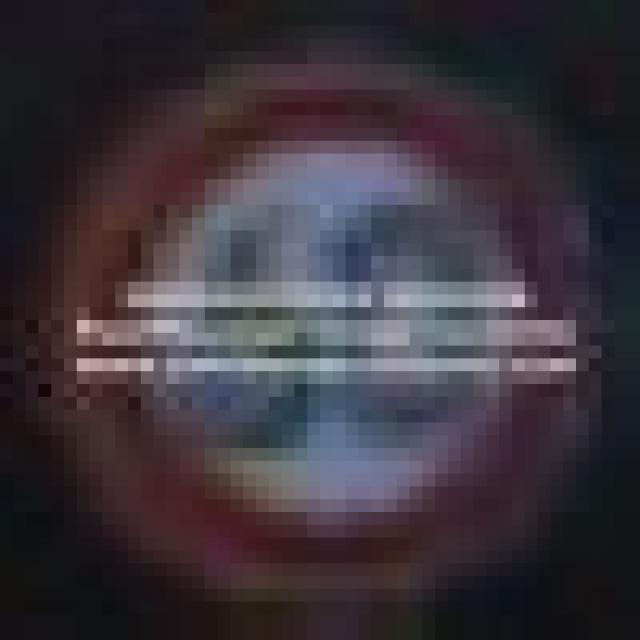SPEED_LIMIT_60: (51, 64, 576, 563)
